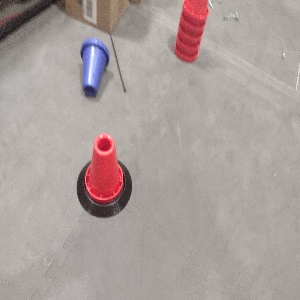Blue_1: (73, 33, 112, 99)
Red_1: (82, 127, 126, 203)
Red_5: (173, 0, 210, 63)
